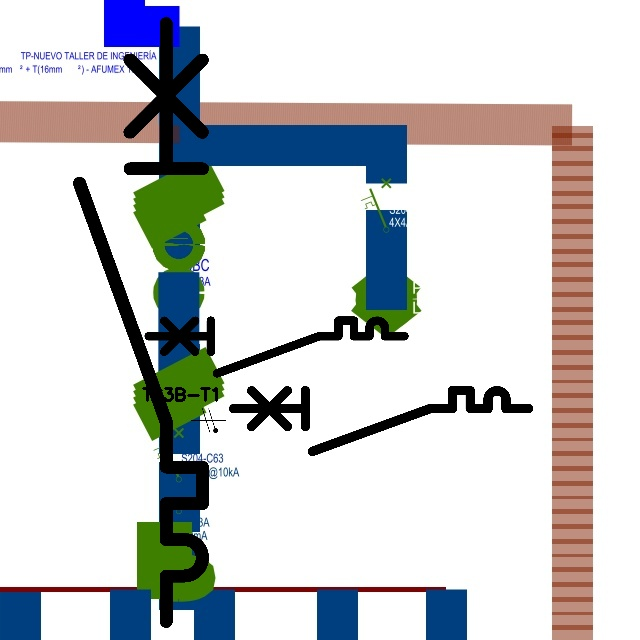interruptor_termomagnetico: (64, 8, 218, 637), (226, 383, 536, 459), (142, 314, 411, 380)
